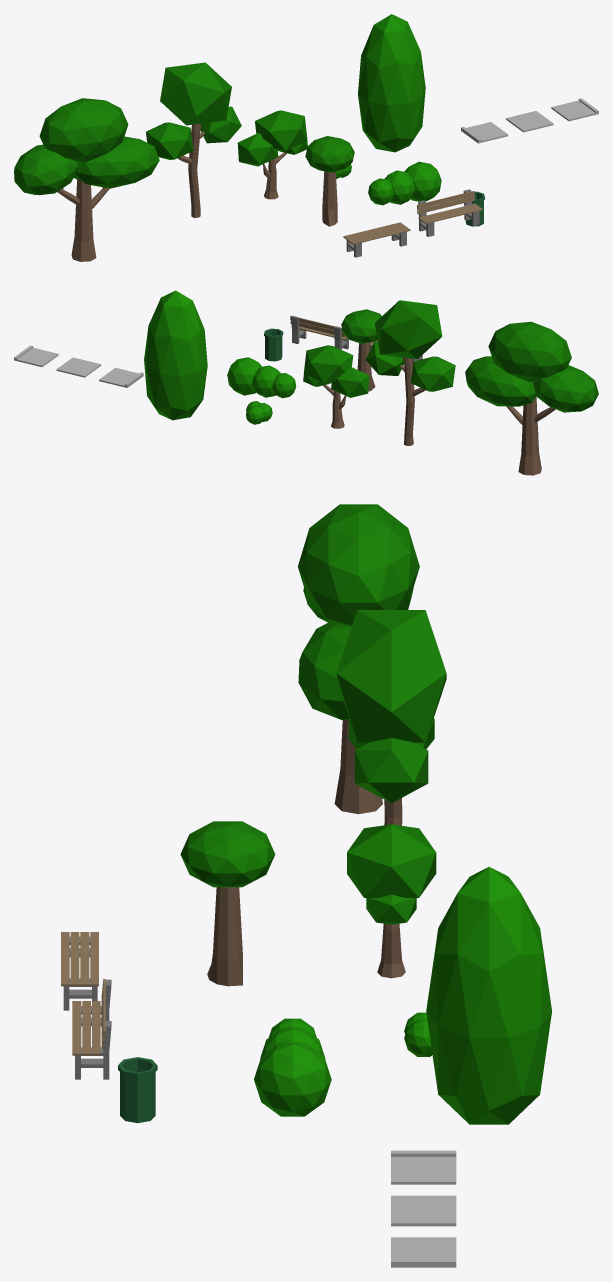
File: LowPolyParkAssets.fbx
The picture shows the model from 3 angles, top to bottom: view 1: azimuth 30°, elevation 25°; view 2: azimuth 150°, elevation 25°; view 3: azimuth 270°, elevation 25°; orthographic projection. The views are drawn at different scales.
Parts seen in each view (by area): view 1: HighBush, Icosphere.011, Icosphere.009, Icosphere.012, Icosphere.013, Icosphere.006, Cylinder.006, Icosphere.014, Icosphere.008, Icosphere.003, Icosphere.005, Cylinder.003 (+10 smaller); view 2: HighBush, Icosphere.011, Icosphere.009, Icosphere.012, Icosphere.013, Icosphere.006, Icosphere.008, Cylinder.006, Icosphere.014, Icosphere.003, Icosphere.005, Cylinder.003 (+11 smaller); view 3: HighBush, Icosphere.009, Icosphere.011, Icosphere.006, Icosphere.014, Icosphere.003, Icosphere.010, Icosphere.012, Cylinder.011, LeftWay, Cylinder.012, MiddleWay (+5 smaller).
Boxes of the visible parts, left/top/right/bottom form: HighBush: left=358, top=14, right=425, bottom=152; Icosphere.011: left=39, top=98, right=128, bottom=162; Icosphere.009: left=160, top=62, right=231, bottom=125; Icosphere.012: left=74, top=136, right=159, bottom=188; Icosphere.013: left=14, top=144, right=77, bottom=195; Icosphere.006: left=255, top=110, right=307, bottom=151; Cylinder.006: left=71, top=178, right=96, bottom=261; Icosphere.014: left=305, top=136, right=354, bottom=172; Icosphere.008: left=146, top=122, right=193, bottom=159; Icosphere.003: left=404, top=161, right=441, bottom=201; Icosphere.005: left=237, top=133, right=278, bottom=166; Cylinder.003: left=188, top=123, right=201, bottom=217; HighBush: left=144, top=290, right=207, bottom=420; Icosphere.011: left=488, top=321, right=571, bottom=381; Icosphere.009: left=374, top=300, right=442, bottom=359; Icosphere.012: left=465, top=356, right=536, bottom=406; Icosphere.013: left=533, top=365, right=598, bottom=412; Icosphere.006: left=303, top=345, right=353, bottom=383; Icosphere.008: left=410, top=356, right=455, bottom=391; Cylinder.006: left=518, top=396, right=541, bottom=475; Icosphere.014: left=341, top=309, right=381, bottom=343; Icosphere.003: left=227, top=357, right=261, bottom=395; Icosphere.005: left=331, top=366, right=369, bottom=397; Cylinder.003: left=403, top=357, right=414, bottom=445; HighBush: left=426, top=867, right=551, bottom=1124; Icosphere.009: left=336, top=610, right=446, bottom=742; Icosphere.011: left=298, top=504, right=419, bottom=626; Icosphere.006: left=347, top=824, right=436, bottom=898; Icosphere.014: left=180, top=821, right=275, bottom=887; Icosphere.003: left=254, top=1042, right=331, bottom=1116; Icosphere.010: left=355, top=738, right=428, bottom=803; Icosphere.012: left=298, top=621, right=351, bottom=719; Cylinder.011: left=207, top=887, right=242, bottom=986; LeftWay: left=391, top=1150, right=456, bottom=1184; Cylinder.012: left=118, top=1057, right=157, bottom=1123; MiddleWay: left=391, top=1195, right=456, bottom=1226.
Bounding box in the file's own units: 3924 × 1048 × 1501.
